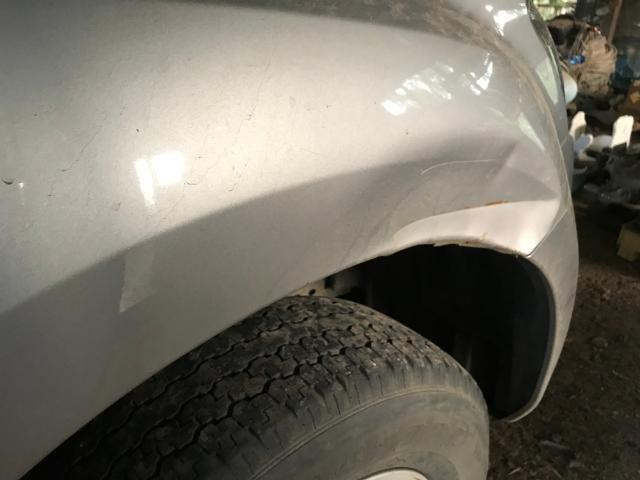dent: (339, 138, 560, 263)
